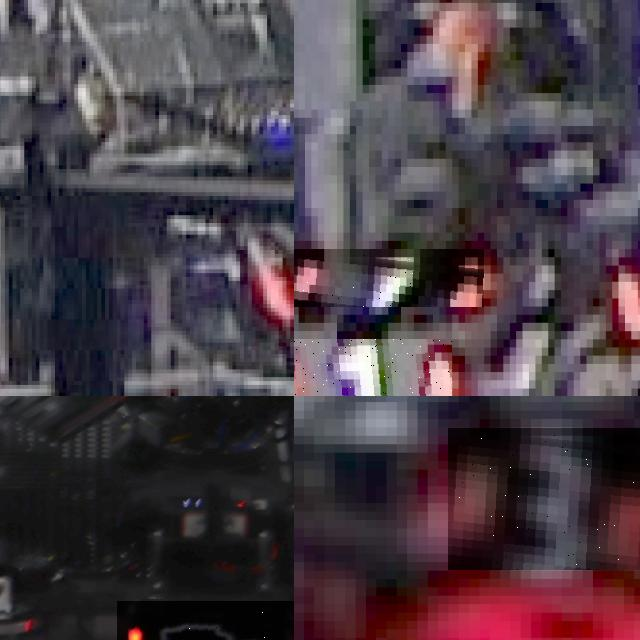R1: (294, 249, 484, 306), (294, 339, 452, 396)
R3: (448, 427, 640, 570)
Rs: (117, 600, 294, 640)
